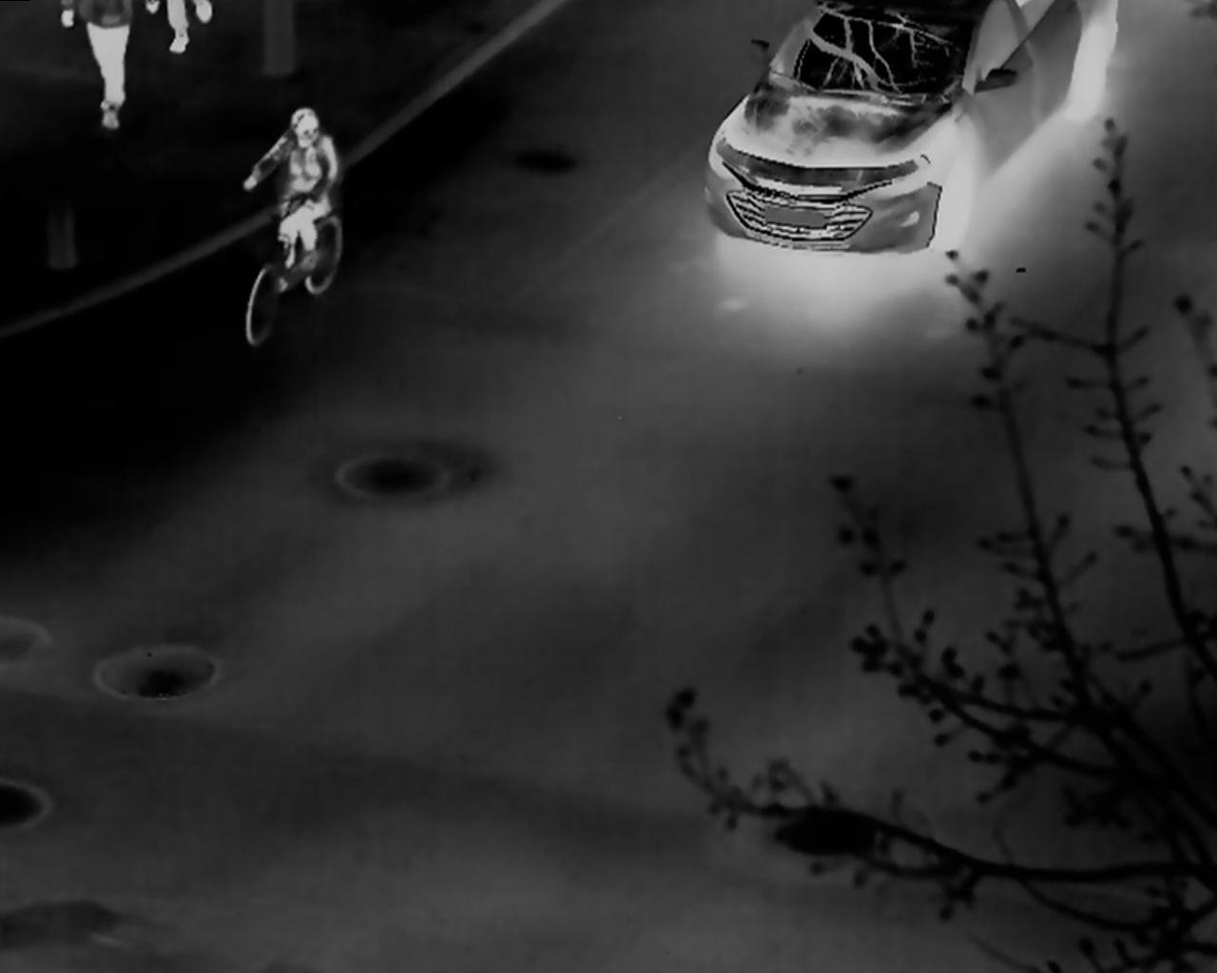person: (242, 106, 338, 275)
